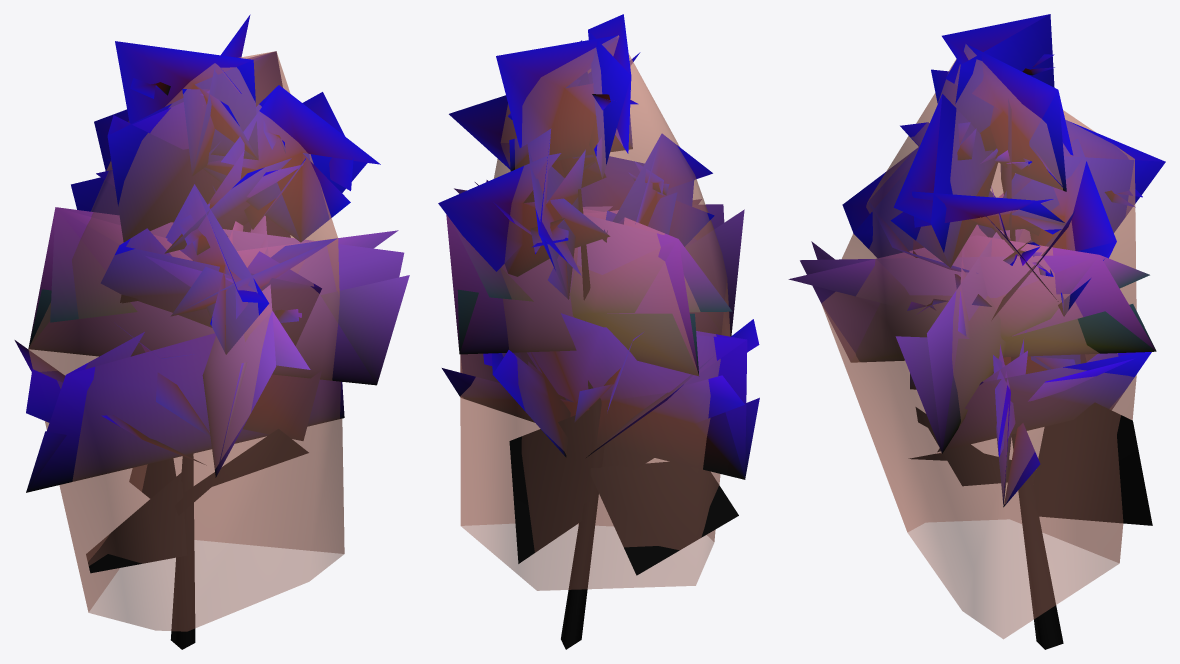
File: tree_oak_bush_b.dae
The picture shows the model from 3 angles, left to right: view 1: azimuth 30°, elevation 25°; view 2: azimuth 150°, elevation 25°; view 3: azimuth 270°, elevation 25°; orthographic projection. The views are drawn at different scales.
Parts seen in each view (by area): view 1: Colmesh_bush_02-1, OakBush_02_a200, OakBush_02_a600; view 2: Colmesh_bush_02-1, OakBush_02_a600, OakBush_02_a200; view 3: Colmesh_bush_02-1, OakBush_02_a200, OakBush_02_a600.
Boxes of the visible parts, x1,y1,x2,y2 form: Colmesh_bush_02-1: [28, 51, 344, 631]; OakBush_02_a200: [26, 26, 404, 649]; OakBush_02_a600: [14, 14, 409, 649]; Colmesh_bush_02-1: [460, 35, 730, 590]; OakBush_02_a600: [438, 14, 759, 649]; OakBush_02_a200: [446, 30, 752, 649]; Colmesh_bush_02-1: [821, 44, 1136, 639]; OakBush_02_a200: [800, 14, 1165, 649]; OakBush_02_a600: [788, 14, 1164, 506].
Bounding box in the file's own units: 2.18 × 2.16 × 3.84.
